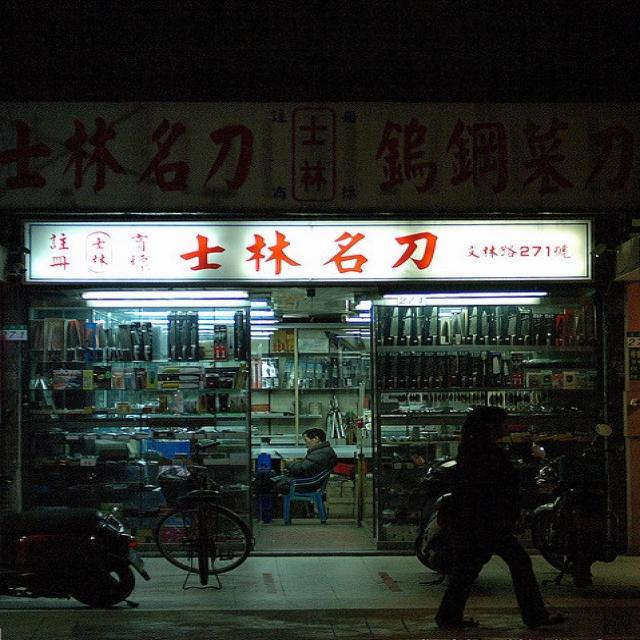Bicycle: (511, 426, 640, 593), (156, 448, 264, 594)
Motorbike: (0, 494, 140, 630)
People: (457, 384, 529, 640), (291, 412, 347, 482)
